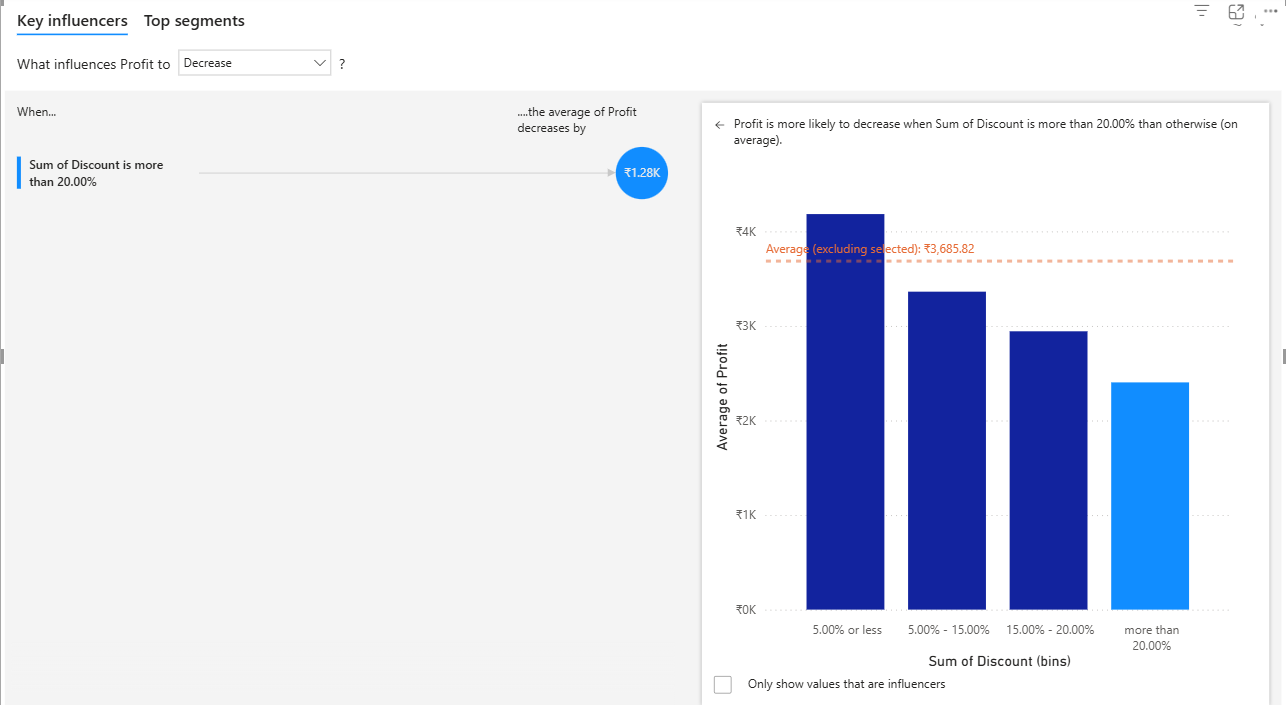

What the dashboard file says about the page in this screenshot:
{"tool":"powerbi","page":{"name":"Key Influencers Visual","canvas":[1280,720],"ordinal":2},"visuals":[{"type":"keyDriversVisual","fields":{"Target":["Sales_Transactions.Profit"],"ExplainBy":["Sales_Transactions.Sales Channel","Customers.Gender","Customers.Region","Sum(Sales_Transactions.Discount)","Customers.City","Customers.Segment"]},"box":[0,0,1280,720.3],"z":0}]}

Visuals, with their boxes in screenshot pixels (x1, y1, x2, y2), scaled from the page's 1280x720 canvas onto the 1286x705 screenshot:
keyDriversVisual - Sales_Transactions.Profit x Sales_Transactions.Sales Channel: x1=0 y1=0 x2=1285 y2=704
